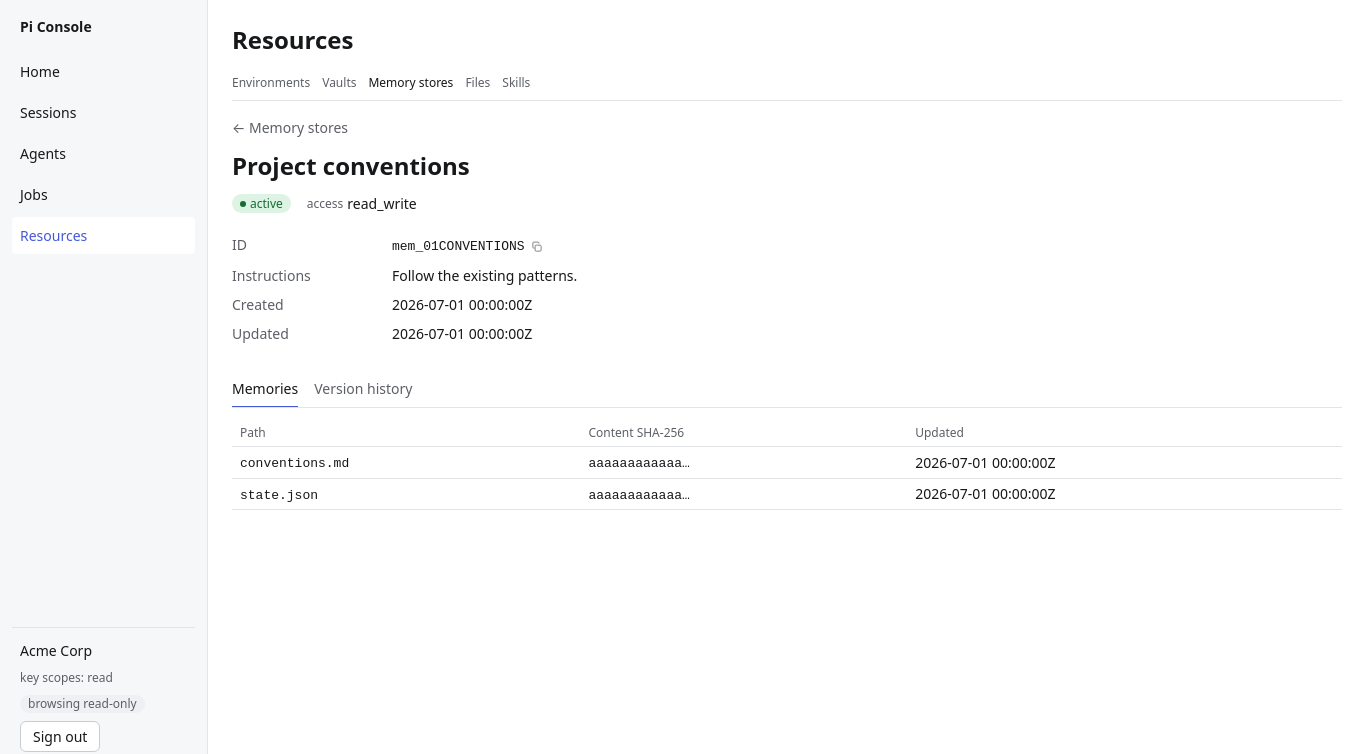
Test: memory store detail (§9.5) › lists the version audit trail and opens a version (plan deliverable)
Expected: the table named "Memories" is shown, [232,420,1342,510]
Click the tab "Version history" at {"x": 363, "y": 390}, box [314,372,412,408]
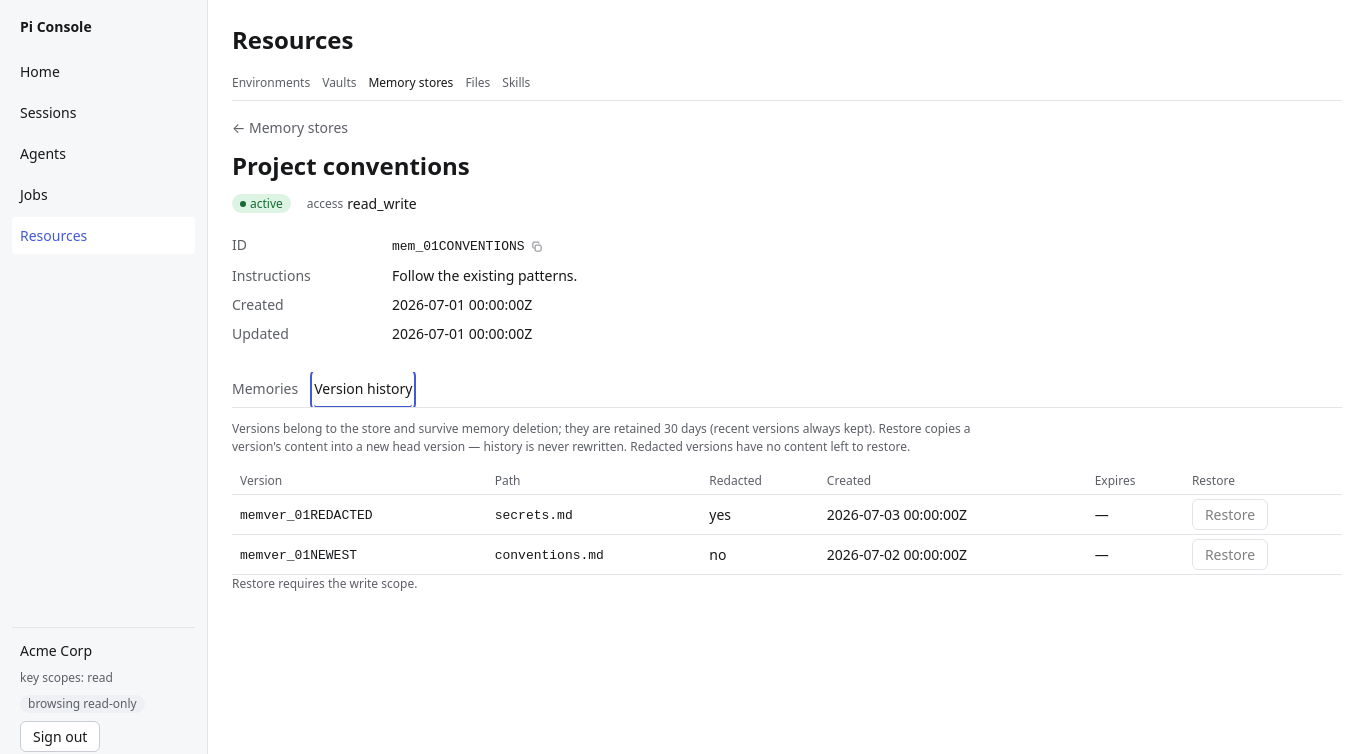
Expected: the text "memver_01REDACTED" is shown, [240,508,373,523]
Expected: the text "yes" is shown, [701,495,819,535]
Expected: the text "memver_01NEWEST" is shown
Click the text "memver_01NEWEST" at {"x": 298, "y": 556}, box [240,548,357,563]
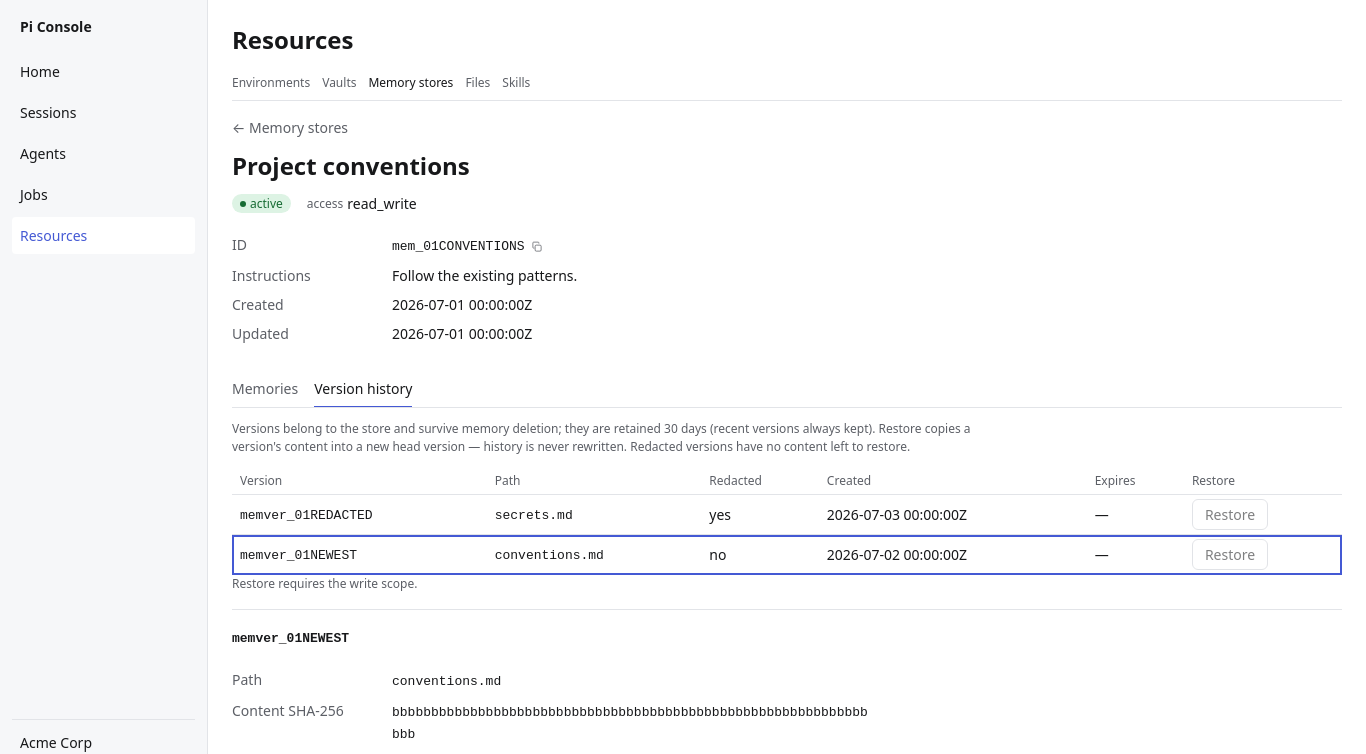
Expected: the 2nd text "conventions.md" is shown, [392,674,501,689]
